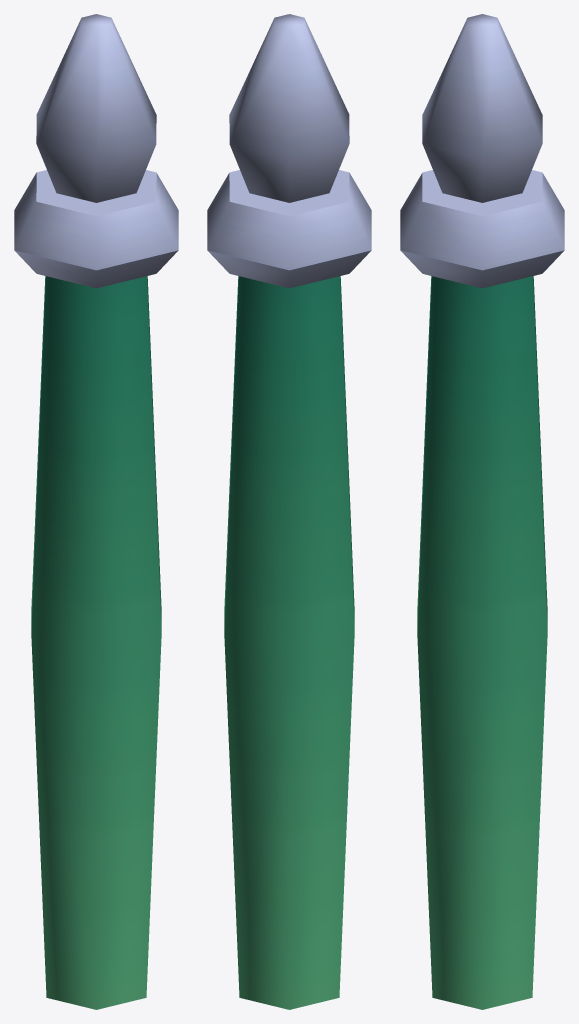
File: k-graveyard-iron-fence-bar.glb
3 views of the same model, side by side, from view 1: azimuth 30°, elevation 25°; view 2: azimuth 150°, elevation 25°; view 3: azimuth 270°, elevation 25° (orthographic).
Visible parts, largest first — view 1: iron-fence-bar; view 2: iron-fence-bar; view 3: iron-fence-bar.
Part boxes in pixels (x1,y1,x2,y2): iron-fence-bar: (14,14,178,1009); iron-fence-bar: (207,14,371,1009); iron-fence-bar: (400,14,564,1009).
Size of the model in its own units: 0.1194 by 0.6689 by 0.1034.
1 material, 1 textured.
